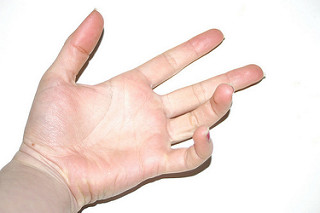palm: (44, 82, 176, 182)
